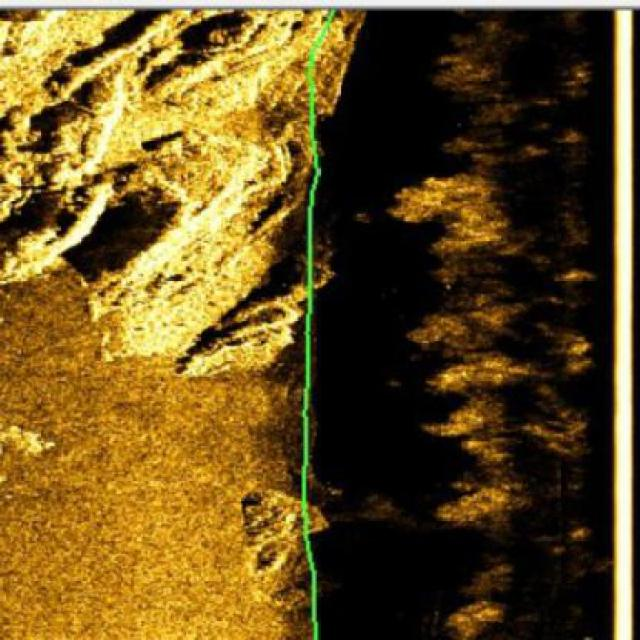bedrock group: (0, 4, 365, 376)
